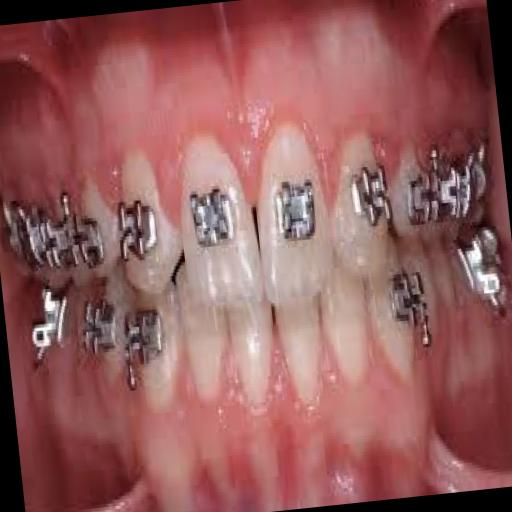correct_brace: (266, 168, 321, 255), (184, 180, 241, 254)
